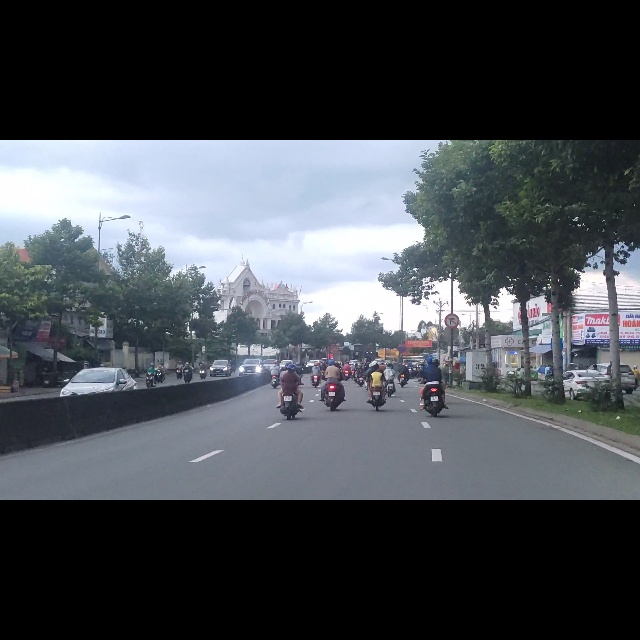bien_cam: (445, 308, 459, 335)
